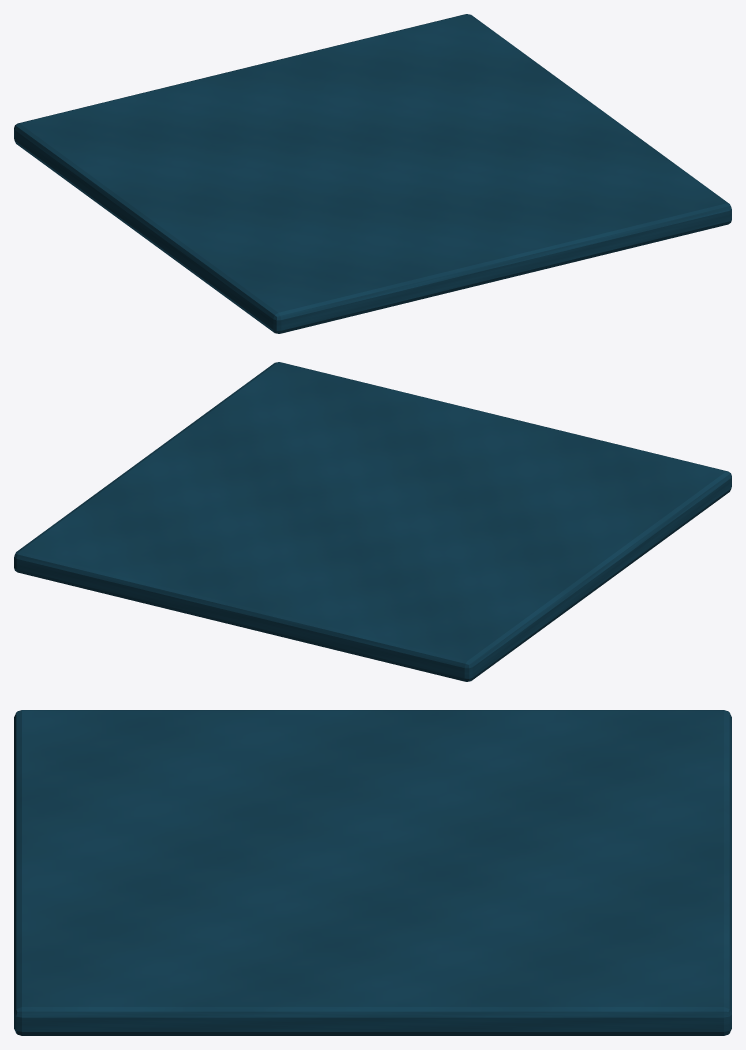
Rendered from Water_Base.fbx.
3 renders of one model, top to bottom at view 1: azimuth 30°, elevation 25°; view 2: azimuth 150°, elevation 25°; view 3: azimuth 270°, elevation 25°, orthographic. The views are drawn at different scales.
Visible parts, largest first — view 1: Water_Base; view 2: Water_Base; view 3: Water_Base.
Part boxes in pixels (x1,y1,x2,y2): Water_Base: [14, 14, 731, 333]; Water_Base: [14, 362, 731, 681]; Water_Base: [14, 710, 731, 1035].
Size of the model in its own units: 10000 by 10000 by 440.
